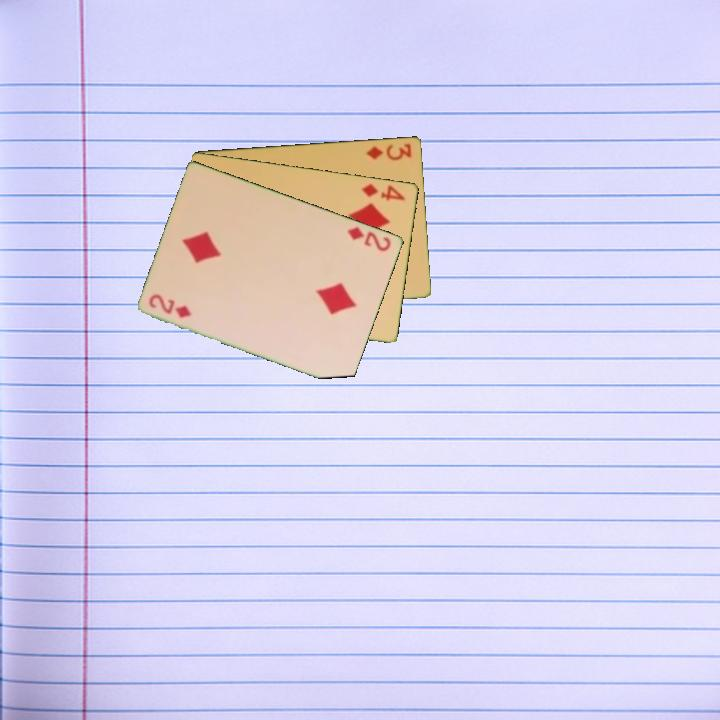2d: (345, 223, 394, 254), (146, 291, 195, 321)
3d: (363, 140, 414, 163)
4d: (358, 180, 408, 203)
